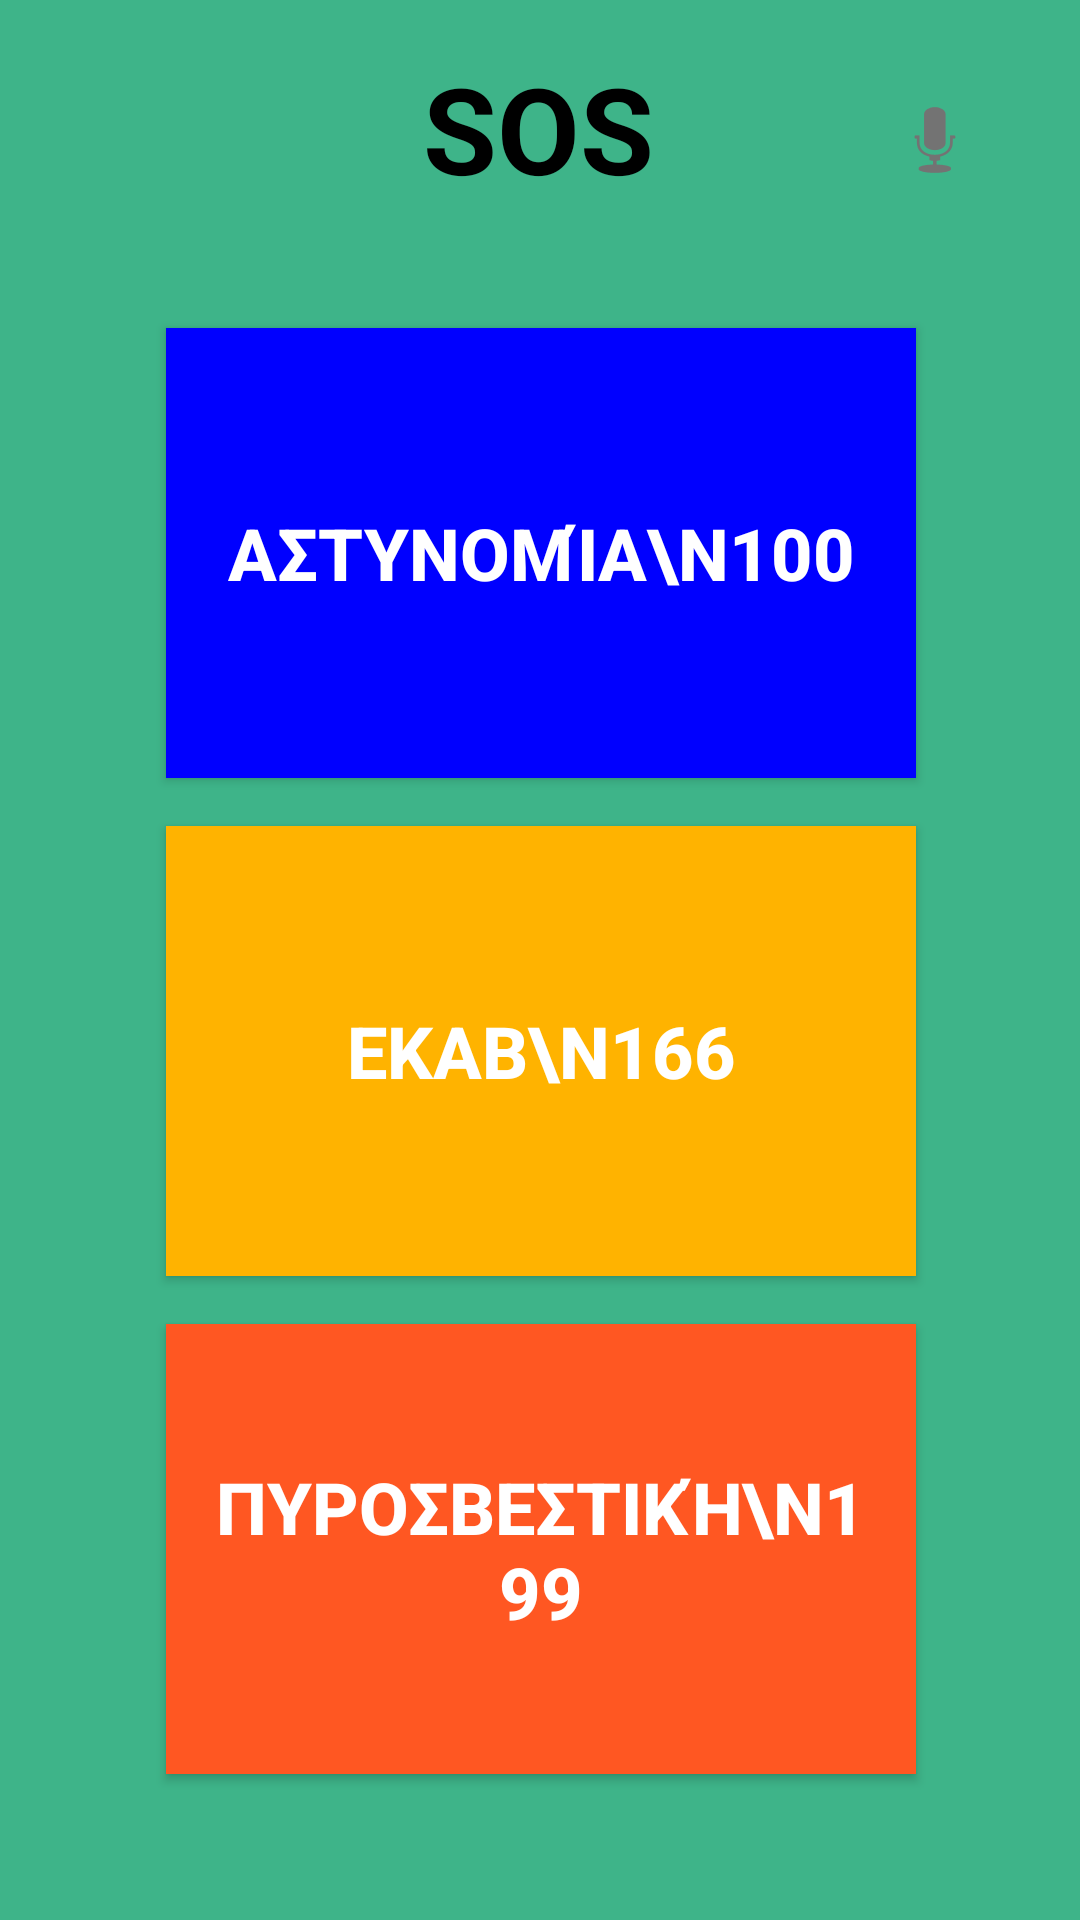

Icon click points for this 1080×1920 phone screenshot, format (x=x, y=y):
speak now: (x=934, y=140)
